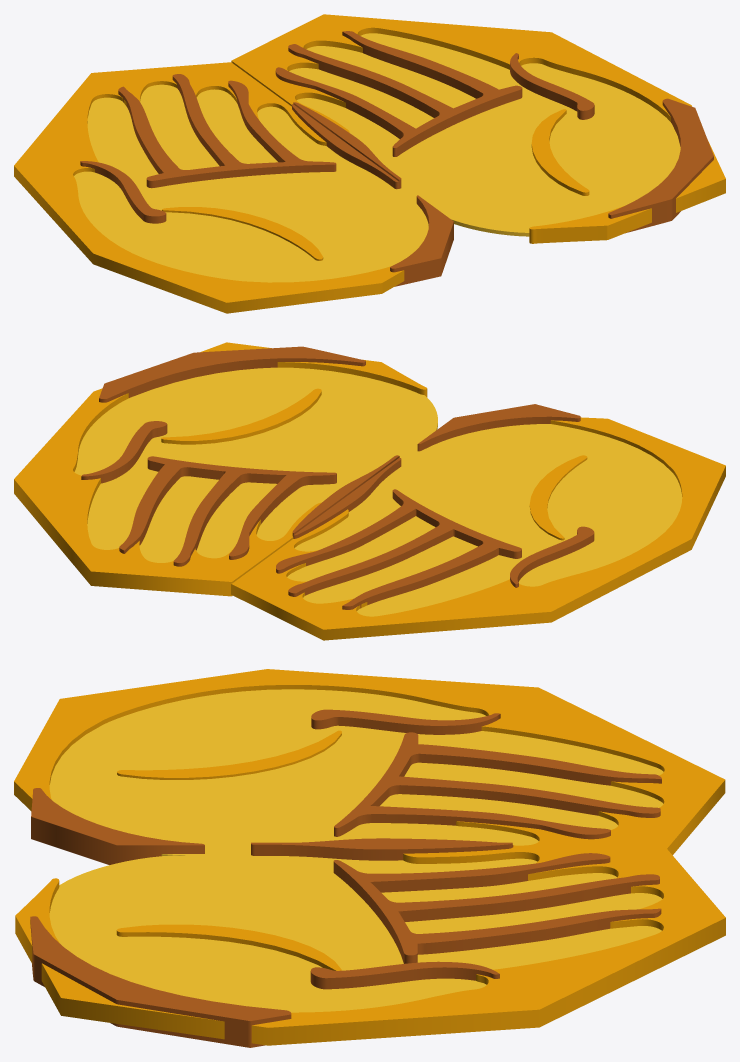
The model's file is emoji_u1f932.glb.
3 renders of one model, top to bottom at view 1: azimuth 30°, elevation 25°; view 2: azimuth 150°, elevation 25°; view 3: azimuth 270°, elevation 25°, orthographic. The views are drawn at different scales.
Parts seen in each view (by area): view 1: emoji_u1f932; view 2: emoji_u1f932; view 3: emoji_u1f932.
Part boxes in pixels (bbox=[...]): emoji_u1f932: bbox=[14, 14, 725, 313]; emoji_u1f932: bbox=[14, 342, 725, 640]; emoji_u1f932: bbox=[14, 669, 725, 1047].
Size of the model in its own units: 0.0347 by 0.0012 by 0.0289.
